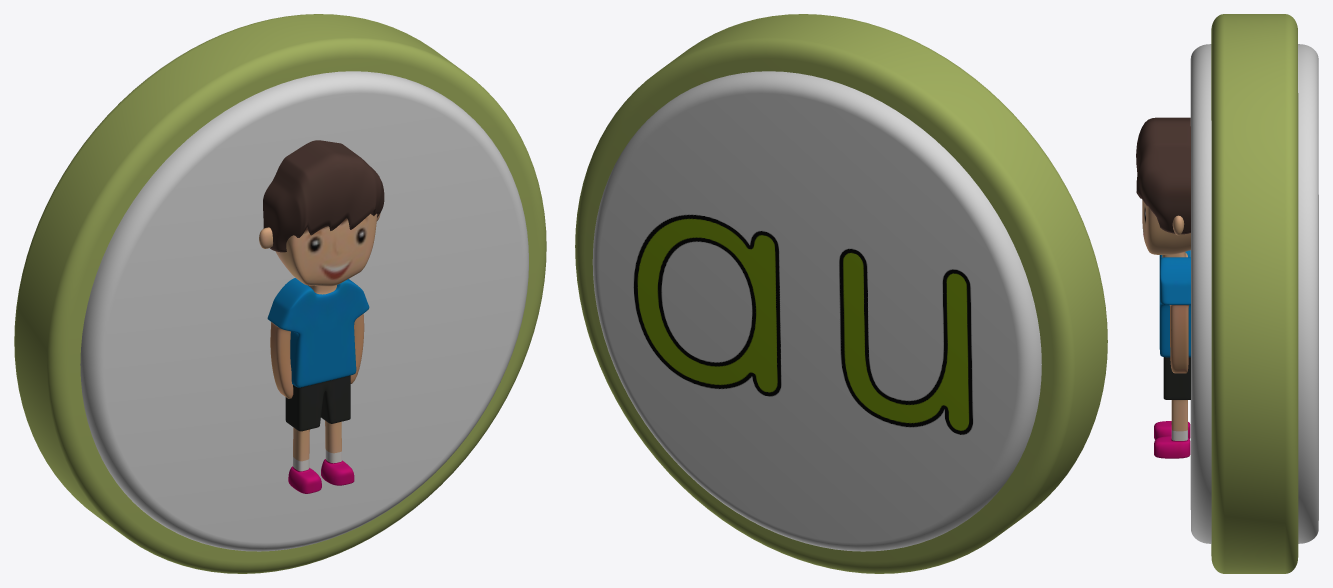
Rendered from boy.gltf.
3 renders of one model, left to right at view 1: azimuth 30°, elevation 25°; view 2: azimuth 150°, elevation 25°; view 3: azimuth 270°, elevation 25°, orthographic. The views are drawn at different scales.
Visible parts, largest first — view 1: Cylinder_2, Cylinder.001, Cube.000, Cube.002, Cube; view 2: Cylinder_2, Cylinder.001; view 3: Cylinder.001, Cylinder_2, Cube.000, Cube.002, Cube.
Part boxes in pixels (bbox=[...]): Cylinder_2: bbox=[80, 71, 528, 551]; Cylinder.001: bbox=[14, 14, 546, 573]; Cube.000: bbox=[267, 278, 369, 493]; Cube.002: bbox=[263, 140, 384, 252]; Cube: bbox=[259, 213, 380, 294]; Cylinder_2: bbox=[592, 71, 1041, 551]; Cylinder.001: bbox=[575, 14, 1107, 573]; Cylinder.001: bbox=[1211, 14, 1298, 573]; Cylinder_2: bbox=[1190, 44, 1318, 543]; Cube.000: bbox=[1154, 250, 1190, 458]; Cube.002: bbox=[1136, 117, 1190, 234]; Cube: bbox=[1142, 200, 1190, 257].
Bounding box in the file's own units: 2.56 × 2.56 × 0.8346.
Materials: 5 (4 with a texture image).
